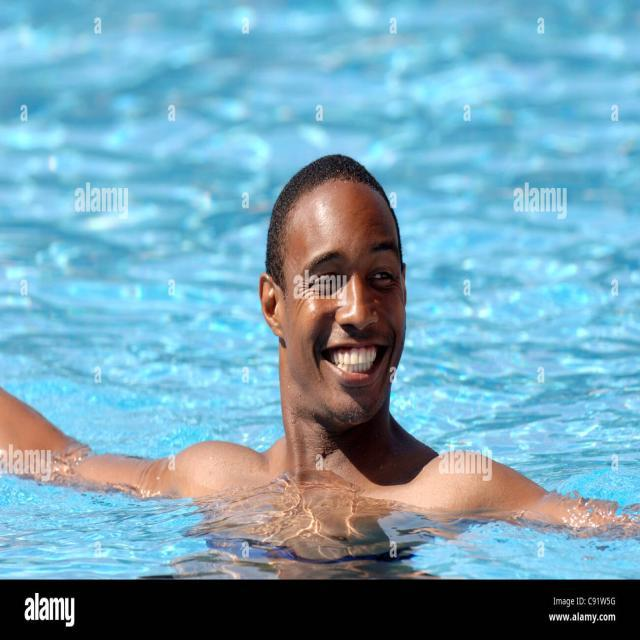Swimming: (2, 153, 640, 556)
